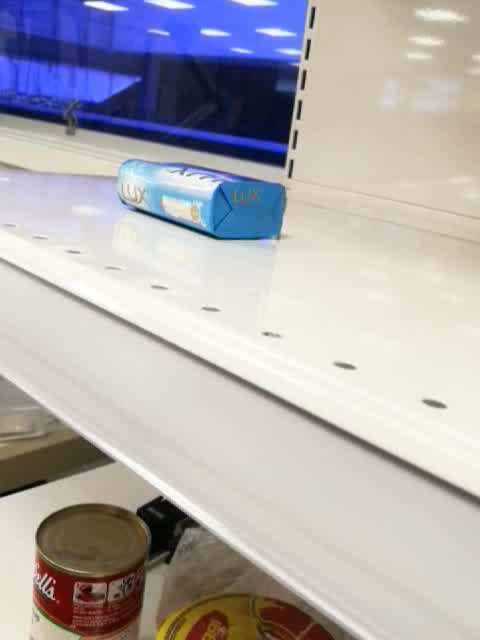soap: (115, 156, 287, 241)
